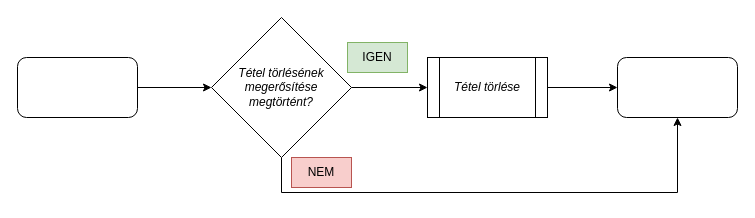
This 755x218 diagram has some shape labels left out. The shapes that lost their labels are listed below. From the top down, each one's box as (x1, y1, x2, y2) in pixels, then its label:
(16, 56, 138, 118): START
(616, 56, 738, 118): STOP
